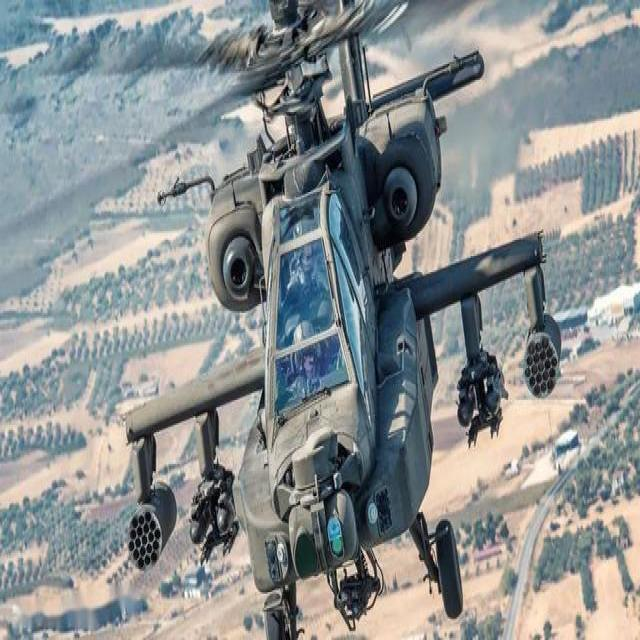MIL_HELO: (88, 0, 572, 640)
